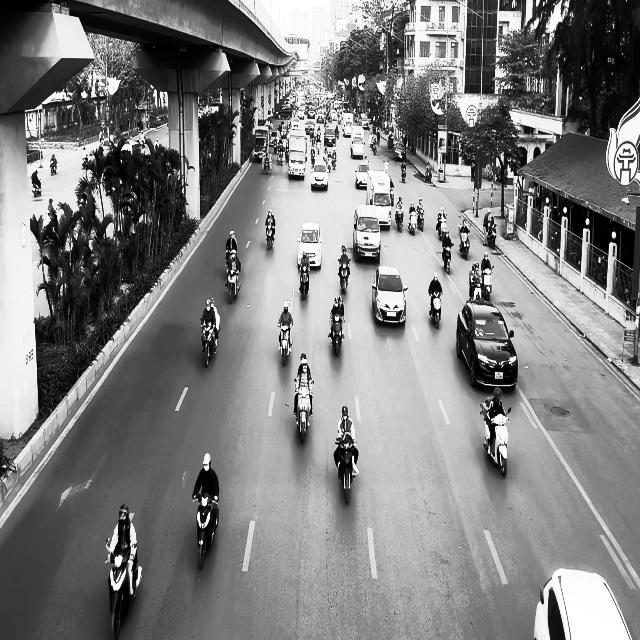car: (534, 568, 632, 639), (456, 298, 518, 388), (372, 265, 408, 326), (353, 204, 381, 262), (296, 222, 324, 270), (311, 161, 329, 191), (354, 161, 372, 189), (393, 141, 406, 161)
motorbike: (105, 538, 143, 640), (480, 401, 512, 478), (193, 493, 219, 570), (334, 436, 356, 504), (294, 378, 314, 442), (200, 320, 218, 367), (226, 251, 241, 303), (328, 312, 345, 357), (278, 321, 293, 366), (429, 289, 443, 328), (338, 258, 351, 294), (481, 265, 494, 300), (442, 242, 454, 274), (300, 264, 310, 300), (459, 228, 470, 260), (486, 222, 497, 249), (266, 222, 276, 250), (437, 215, 447, 240), (408, 211, 418, 235), (396, 207, 404, 232), (32, 178, 42, 197), (417, 210, 425, 231), (50, 160, 58, 175), (425, 165, 432, 182), (401, 167, 406, 183)
